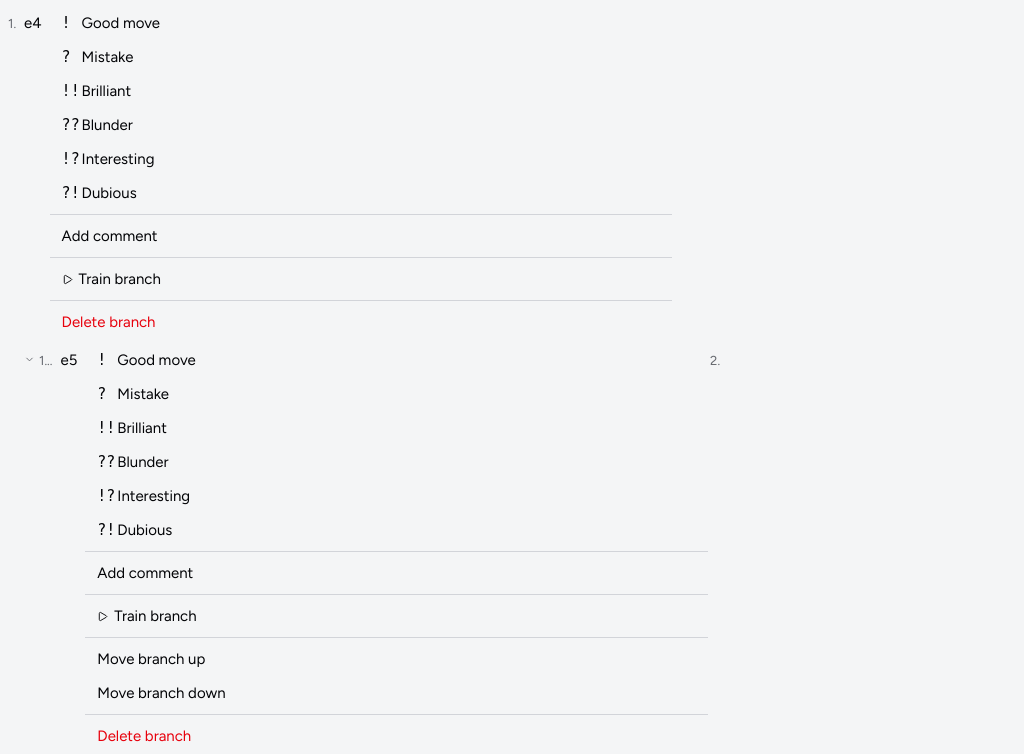
RepertoireTreePanel › clicking the collapse toggle hides the branch children
Expected: the button "e5" is shown, top-left (54, 347), bottom-right (83, 373)
Step 1. Click the button named "collapse branch" → (30, 360), box top-left (24, 354), bottom-right (35, 365)
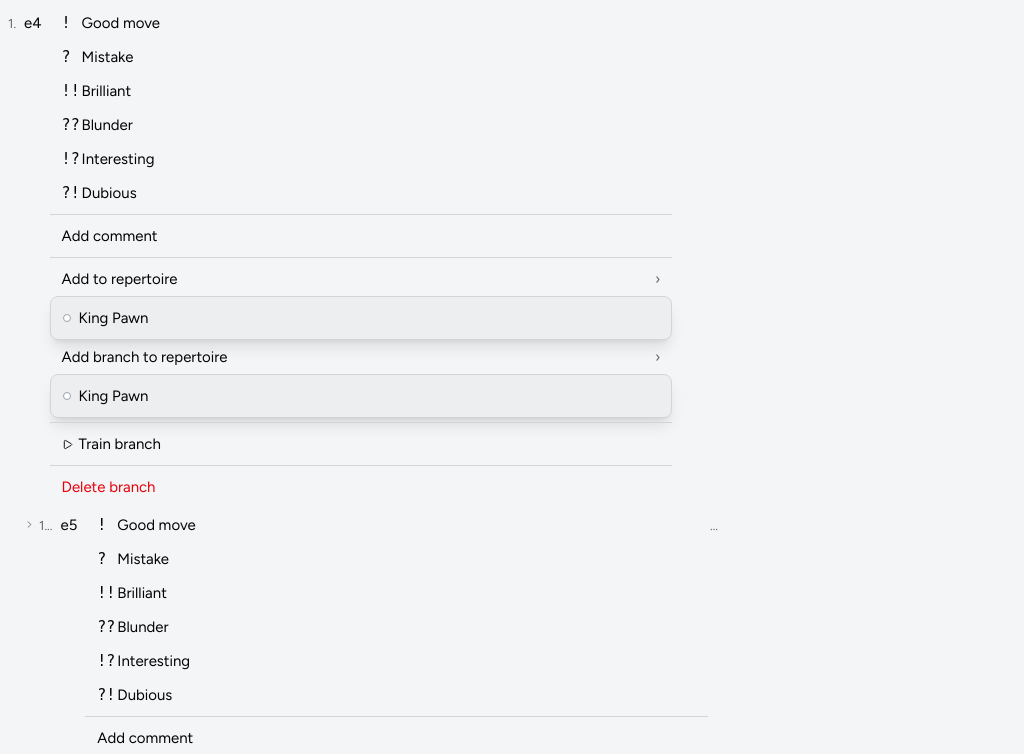
Expected: the button named "expand branch" is shown, top-left (24, 519), bottom-right (35, 530)
